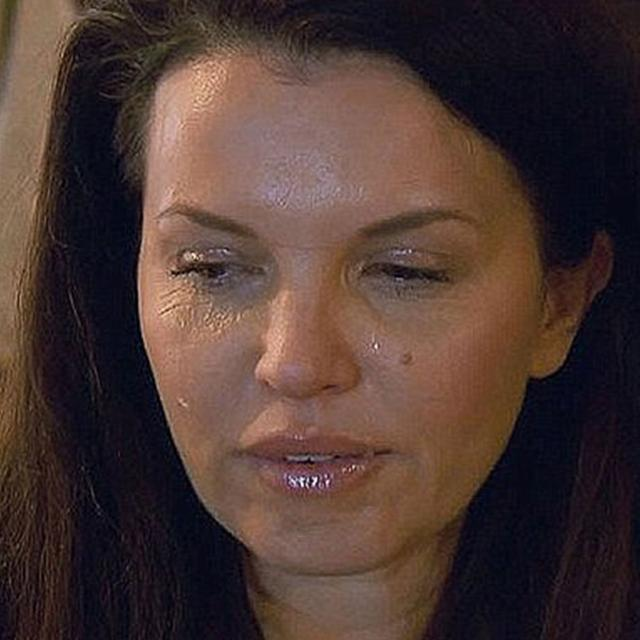Depress: (139, 50, 547, 573)
